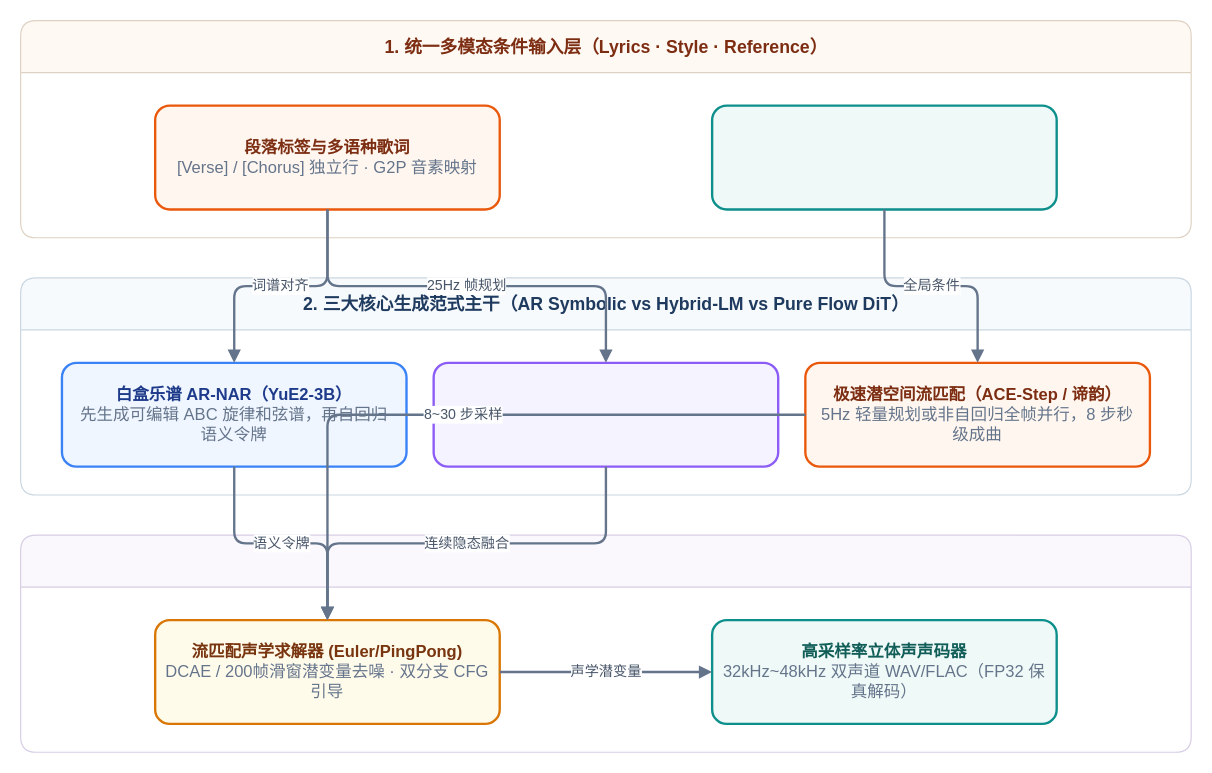
The diagram is 1212 pixels wide and 773 high, and some of its shapes have lost their labels. The box of each missing label's shape, as (x1, y1, x2, y2) in pixels:
3. 连续潜空间声学合成与立体声解码（Flow Matching + Stereo VAE / DAC）: (19, 534, 1191, 752)
分层连续隐态（MiniMax Music 3） 8B Global + 0.6B RVQ 隐态直通 2.4B Flow DiT: (432, 361, 779, 467)
结构化曲风与参考音频 BPM / 调式 / 配器演进 · 零样本翻唱旋律参考: (710, 104, 1057, 210)
